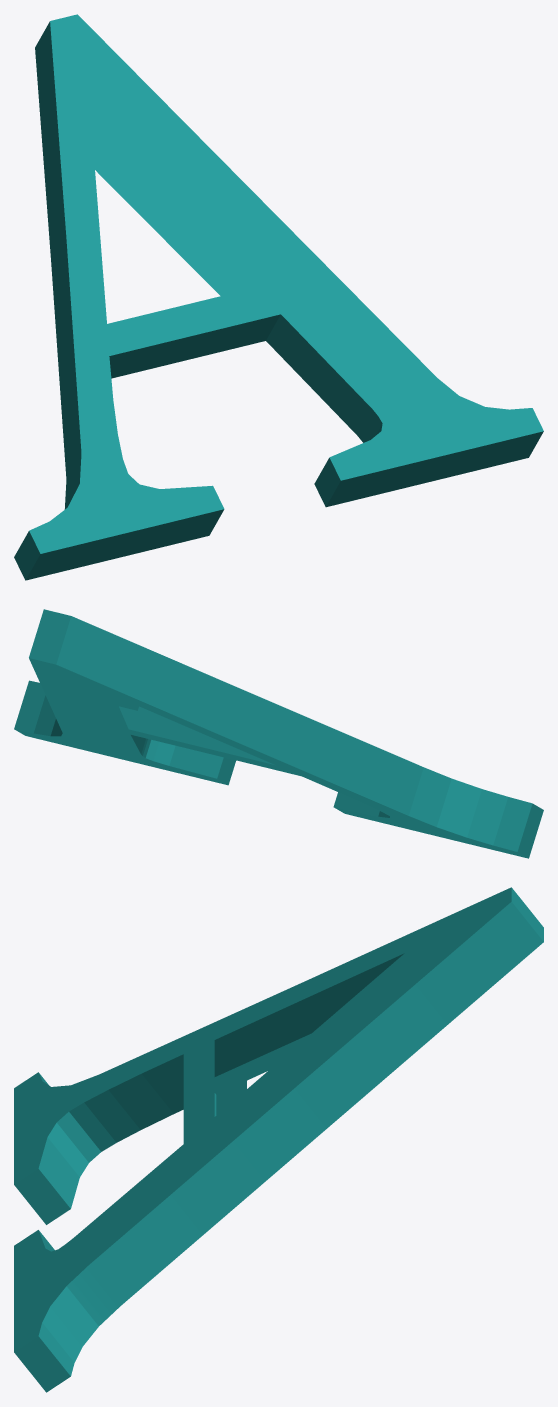
File: original-28.obj
3 views of the same model, one above another, from view 1: azimuth 30°, elevation 25°; view 2: azimuth 150°, elevation 25°; view 3: azimuth 270°, elevation 25° (orthographic). The views are drawn at different scales.
Parts seen in each view (by area): view 1: #ID20; view 2: #ID20; view 3: #ID20.
Boxes of the visible parts, x1,y1,x2,y2 form: #ID20: (14, 14, 543, 580); #ID20: (14, 609, 543, 858); #ID20: (14, 887, 543, 1392).
Bounding box in the file's own units: 0.0198 × 0.0129 × 0.0168.
